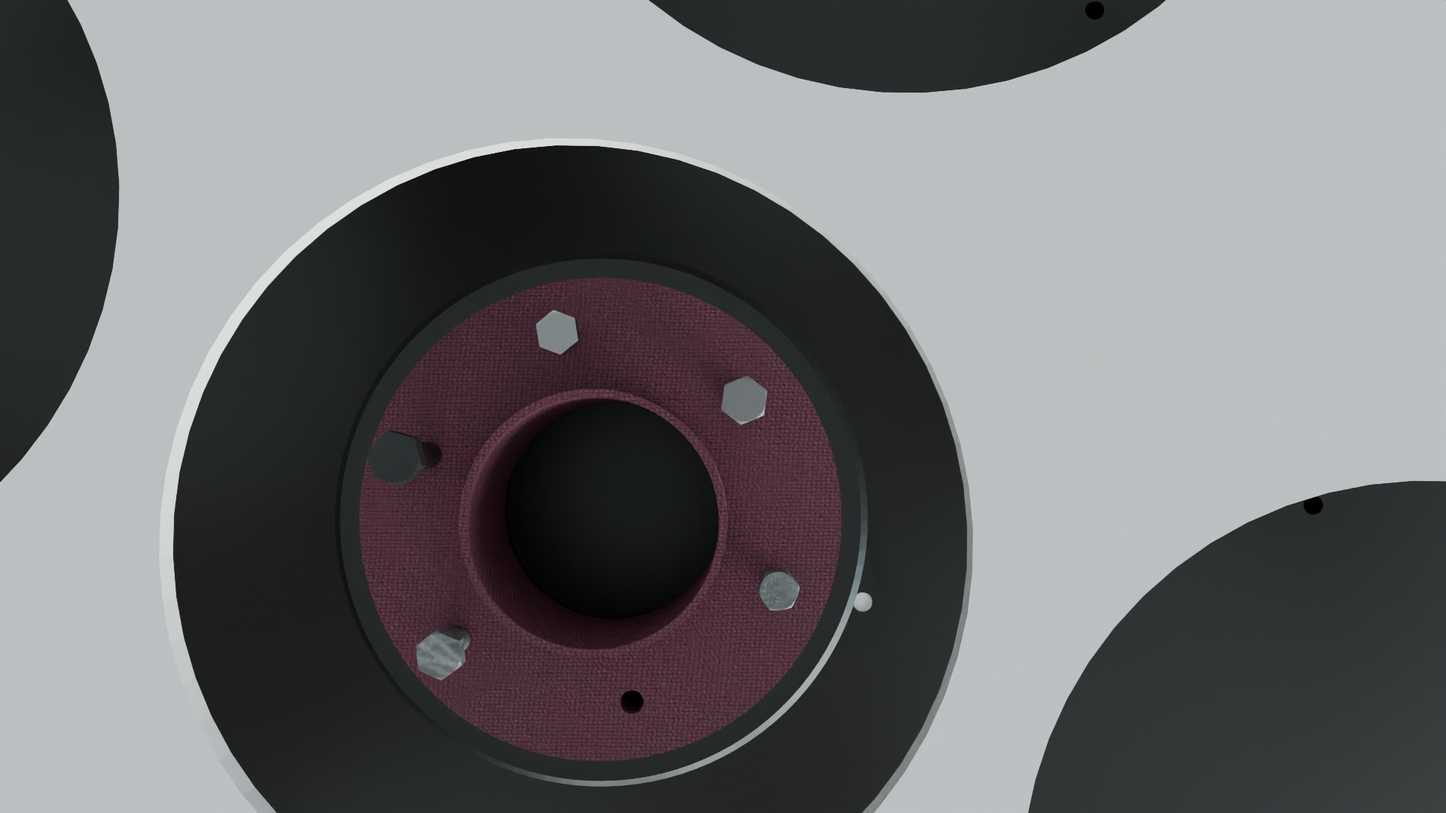bolt: (368, 431, 422, 486), (416, 631, 462, 681), (721, 376, 767, 425), (536, 310, 578, 355), (757, 570, 801, 611)
